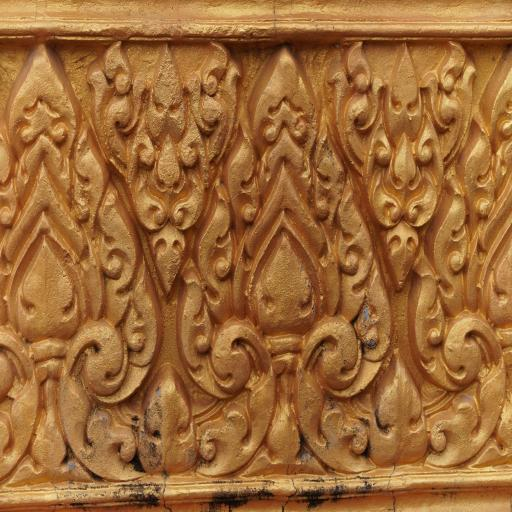lua: (168, 41, 399, 492), (1, 36, 160, 493), (395, 34, 512, 484), (331, 33, 486, 271), (88, 34, 238, 279)
